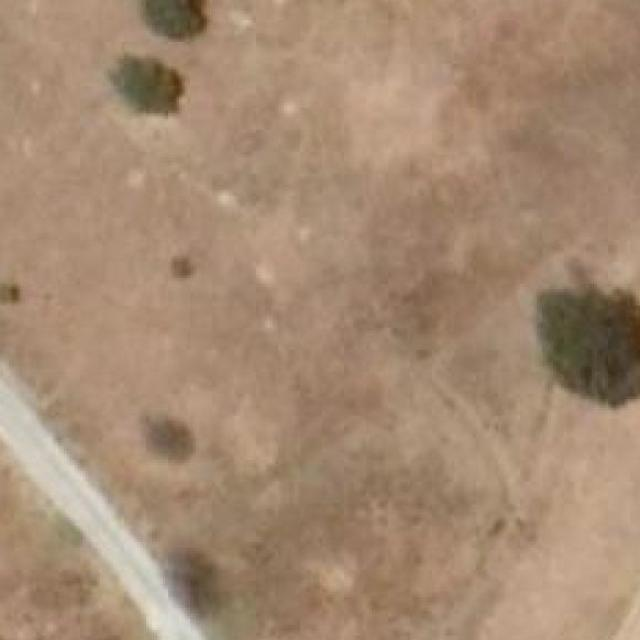Tree: (537, 289, 640, 399), (164, 548, 231, 626), (121, 56, 179, 114), (144, 413, 196, 468), (145, 0, 204, 40), (165, 254, 201, 284), (0, 284, 20, 309)
